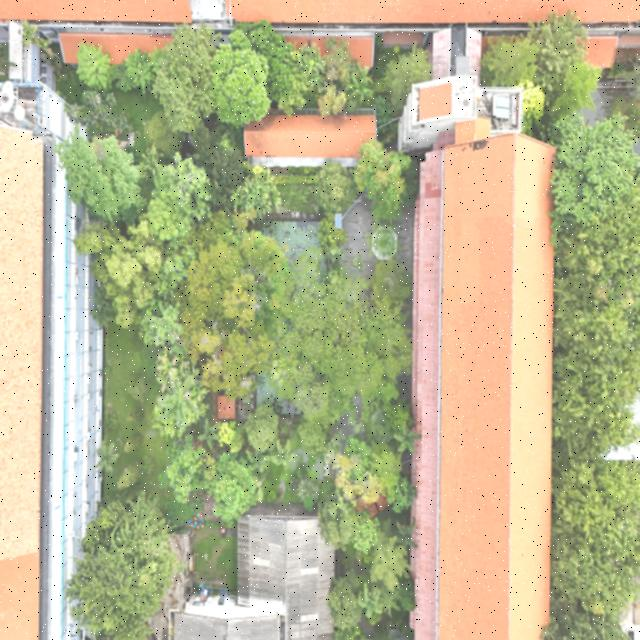Tree: (356, 138, 411, 218), (210, 452, 258, 526), (74, 40, 114, 92), (313, 153, 349, 209), (394, 419, 419, 455)
